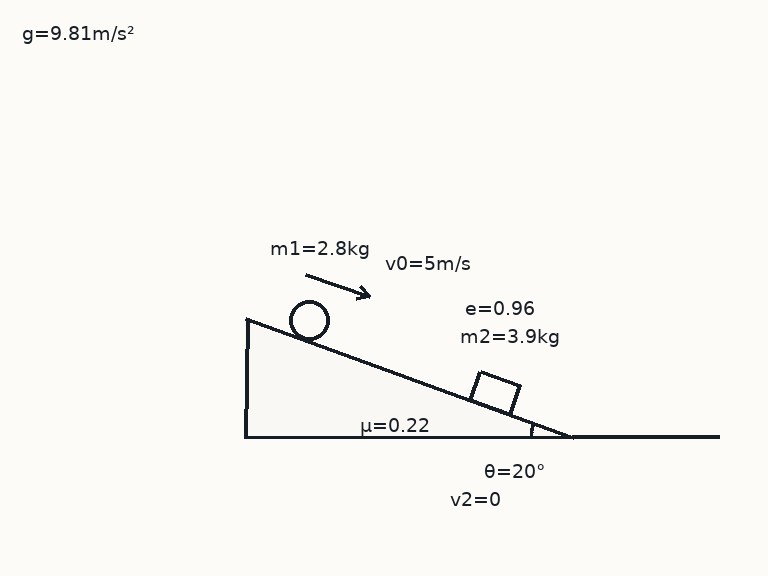ball: (287, 298, 331, 342)
block: (468, 369, 521, 416)
ramp: (244, 317, 573, 439)
